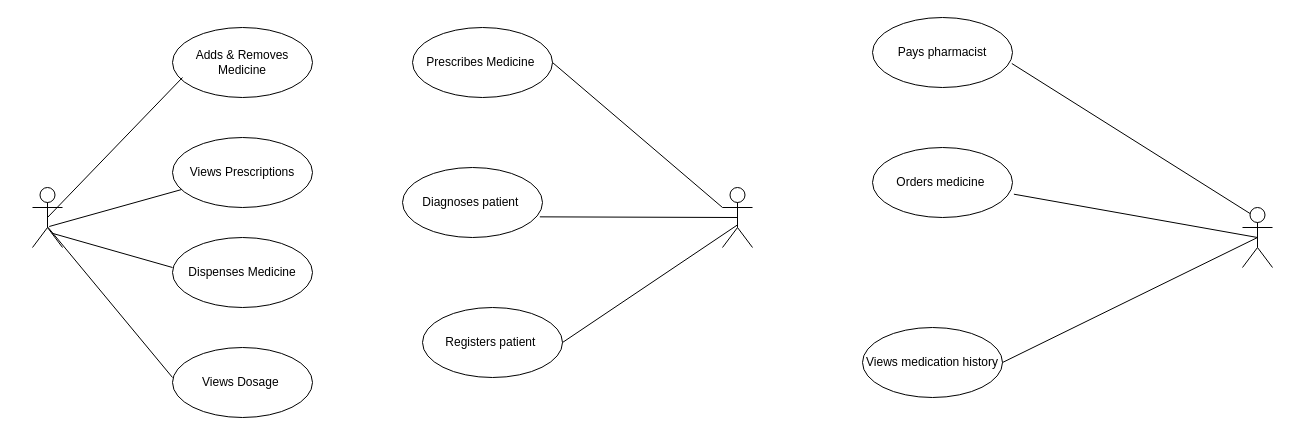
Some shapes in this 1295 by 435 pixel diagram are drawn without their labels. The centre of each missing label's shape, as x and y in pixels:
"Doctor" goes at [737,217].
"Patient" goes at [1257,237].
"Pharmacist" goes at [47,217].
